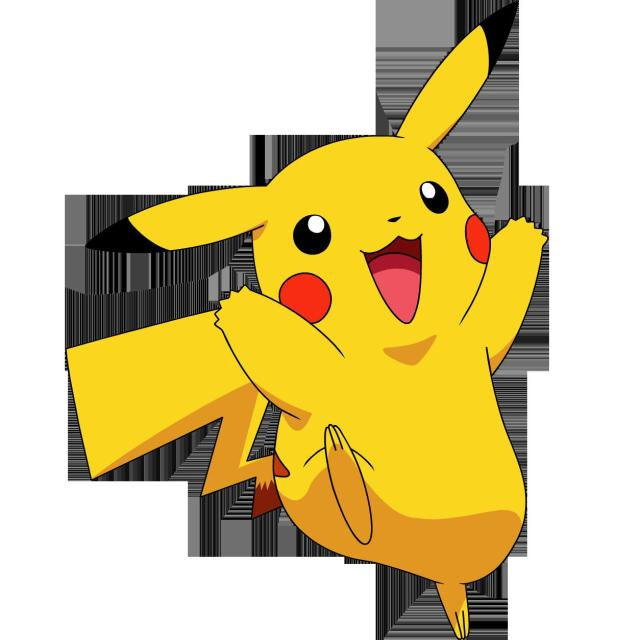pikachu: (64, 5, 547, 640)
